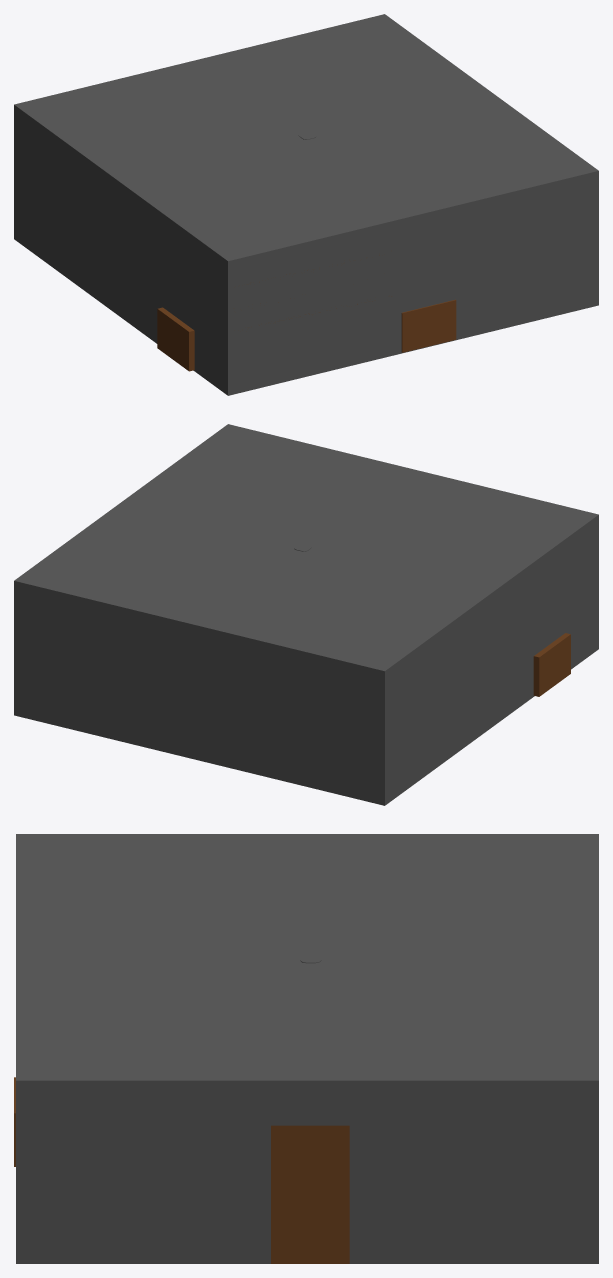
Rendered from Bar.fbx.
The picture shows the model from 3 angles, top to bottom: view 1: azimuth 30°, elevation 25°; view 2: azimuth 150°, elevation 25°; view 3: azimuth 270°, elevation 25°; orthographic projection. The views are drawn at different scales.
Visible parts, largest first — view 1: Room, Bar counter; view 2: Room, Bar counter; view 3: Room, Door.
Part boxes in pixels (x1,y1,x2,y2): Room: (14,14,598,395); Bar counter: (157,299,456,371); Room: (14,424,598,805); Bar counter: (533,633,570,696); Room: (16,834,598,1263); Door: (271,1125,349,1263).
Bounding box in the file's own units: 5706 × 1958 × 5641.
